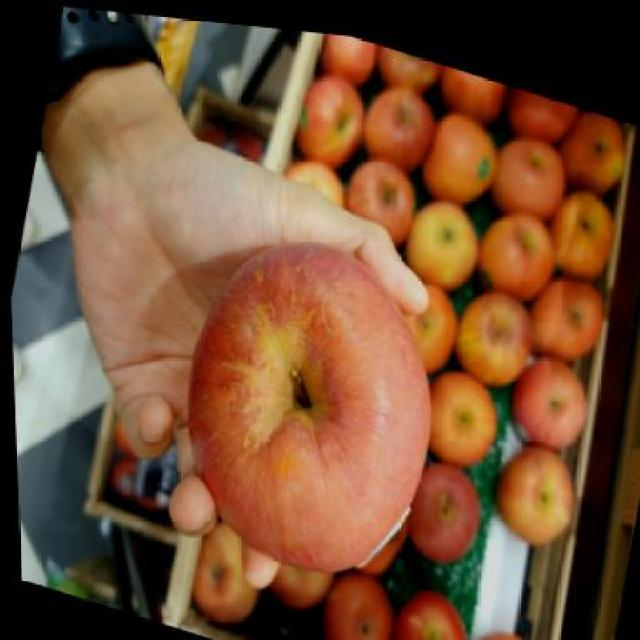Fresh Apple: (193, 246, 424, 580)
